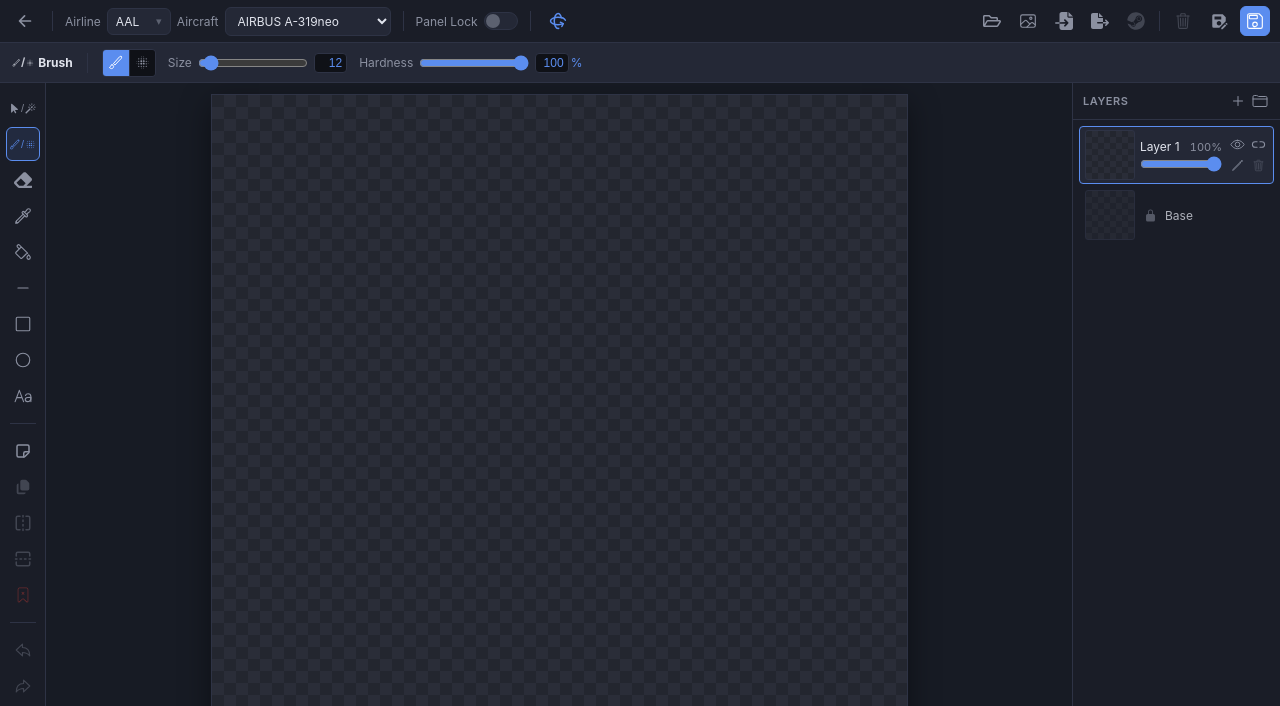
Test: CreateTab airline/aircraft dropdowns just close › selecting an airline never remounts the canvas
This screenshot has width=1280, height=706.
What coordinates should you click on to do the following:
click the dropdown with placeholder "CCA"
I would click on:
 (139, 21)
Its box is x1=107 y1=8 x2=171 y2=34.
(page scrolled)
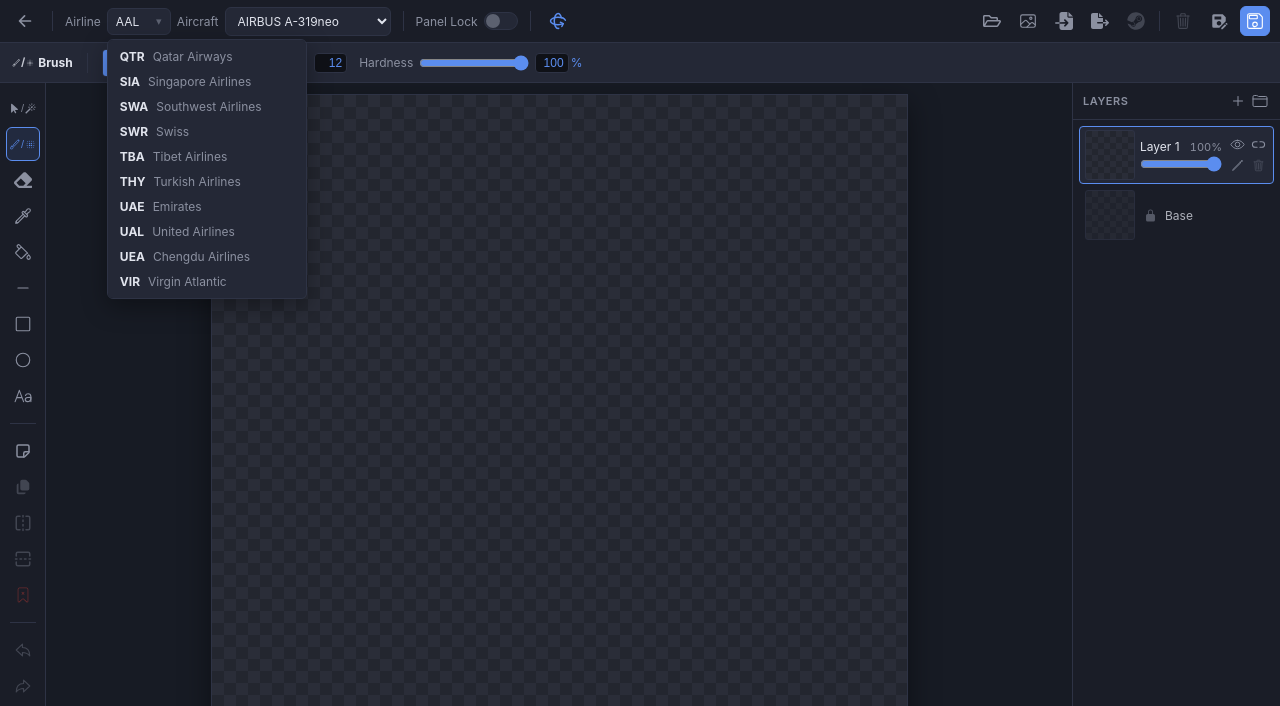
What coordinates should you click on to do the following:
click the button with class "lp-airline-option" showing "UAL United Airlines"
I would click on:
 (207, 231)
Its box is x1=112 y1=218 x2=302 y2=244.
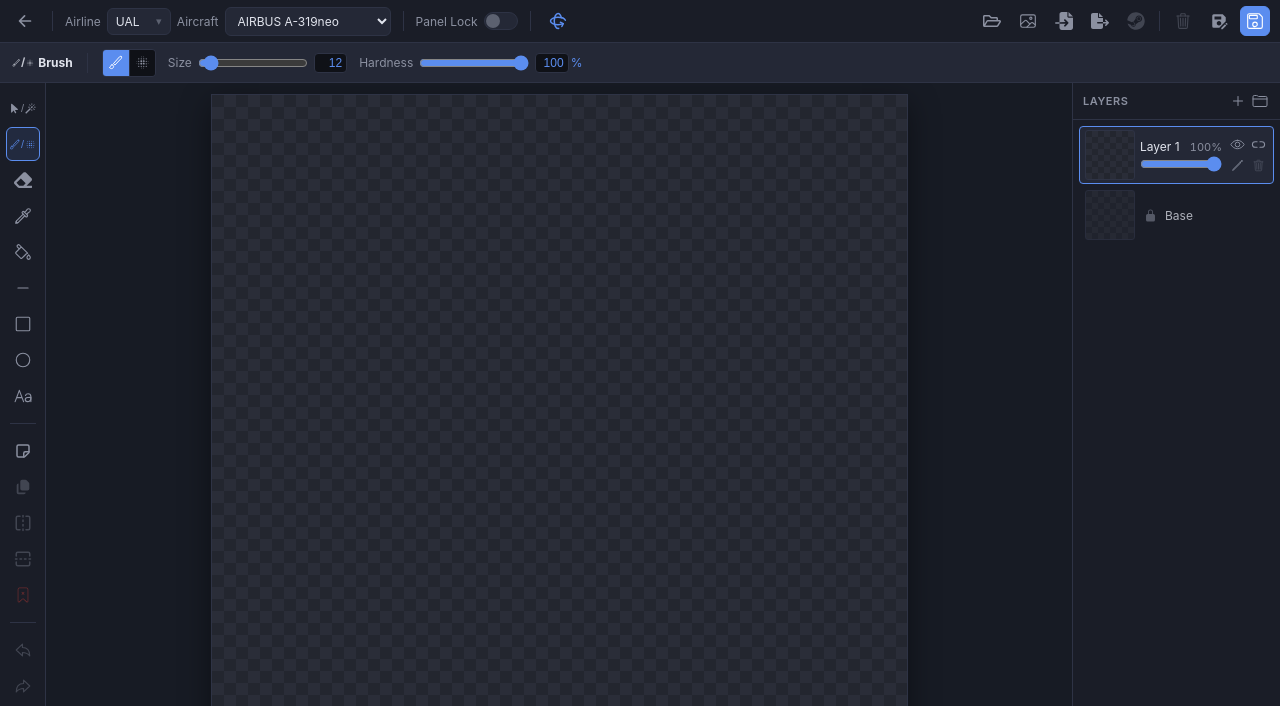
Result: the dropdown with placeholder "CCA" holds "UAL" at x1=107 y1=8 x2=171 y2=34
Result: the list with id "livery-airline-list" is gone
